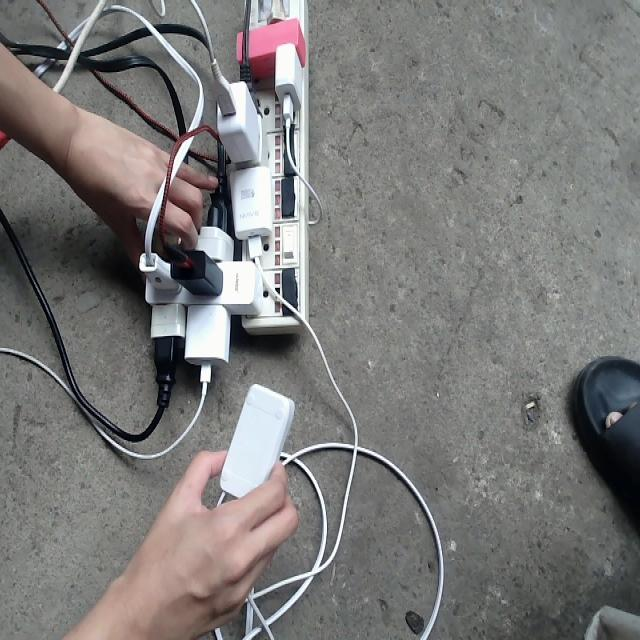-: (136, 1, 312, 364)
